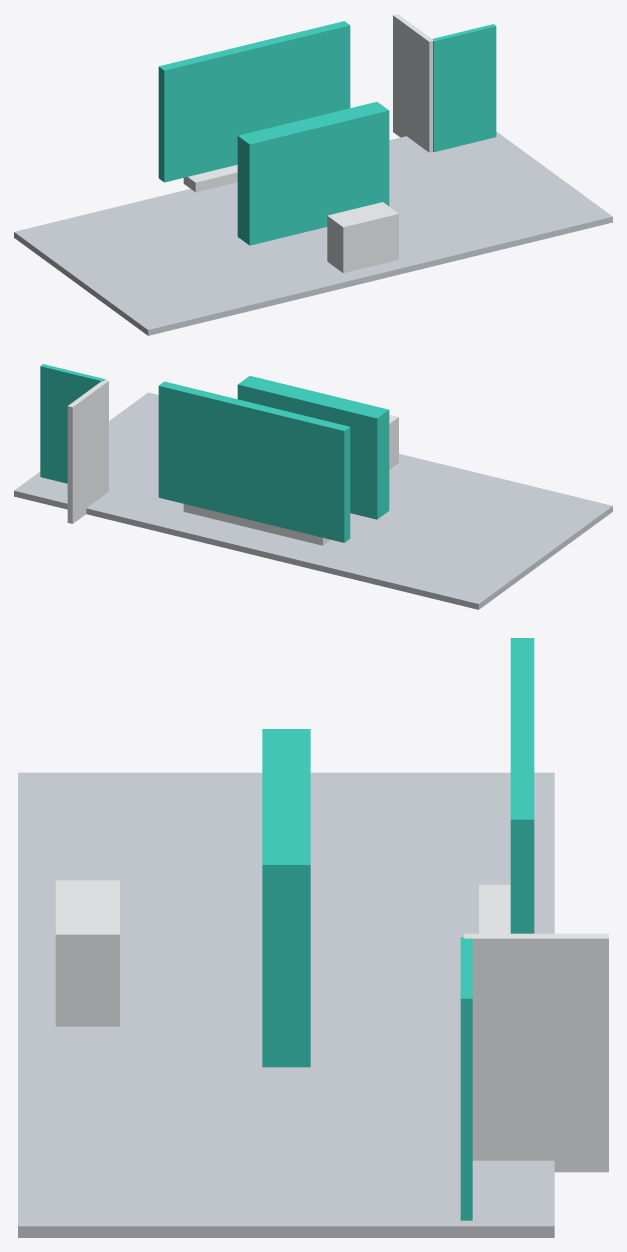
The picture shows the model from 3 angles, top to bottom: view 1: azimuth 30°, elevation 25°; view 2: azimuth 150°, elevation 25°; view 3: azimuth 270°, elevation 25°; orthographic projection. The views are drawn at different scales.
Visible parts, largest first — view 1: Exhibition Booth Concept; view 2: Exhibition Booth Concept; view 3: Exhibition Booth Concept.
Part boxes in pixels (x1,y1,x2,y2): Exhibition Booth Concept: (14, 14, 612, 335); Exhibition Booth Concept: (14, 364, 612, 609); Exhibition Booth Concept: (18, 638, 608, 1237).
Size of the model in its own units: 10 by 2.9 by 5.51.
